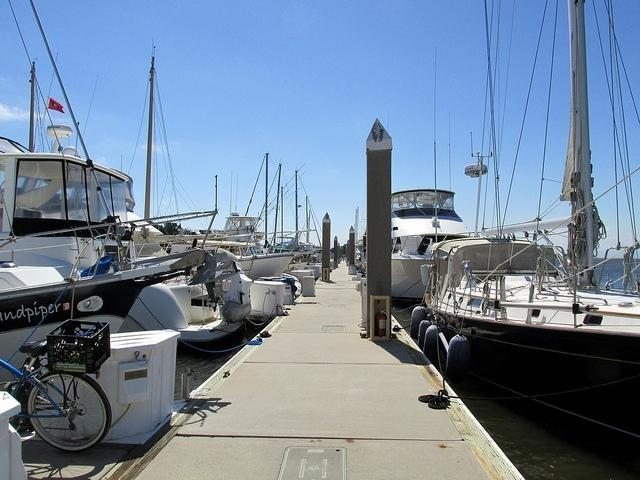bicycle: (31, 374, 109, 450)
